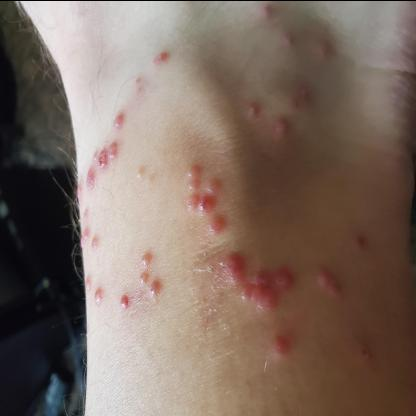Fire ant: (221, 250, 298, 315), (184, 157, 228, 239), (76, 138, 122, 200), (138, 247, 166, 300), (80, 205, 102, 259), (314, 264, 343, 298), (84, 269, 110, 306), (350, 330, 374, 368), (270, 330, 296, 360), (290, 82, 316, 110), (150, 45, 172, 72), (352, 229, 371, 256), (274, 115, 292, 142), (134, 162, 154, 184), (132, 72, 146, 102), (111, 110, 131, 131), (316, 38, 332, 62), (246, 96, 263, 118), (258, 2, 276, 21), (119, 290, 133, 314), (283, 27, 296, 51)
